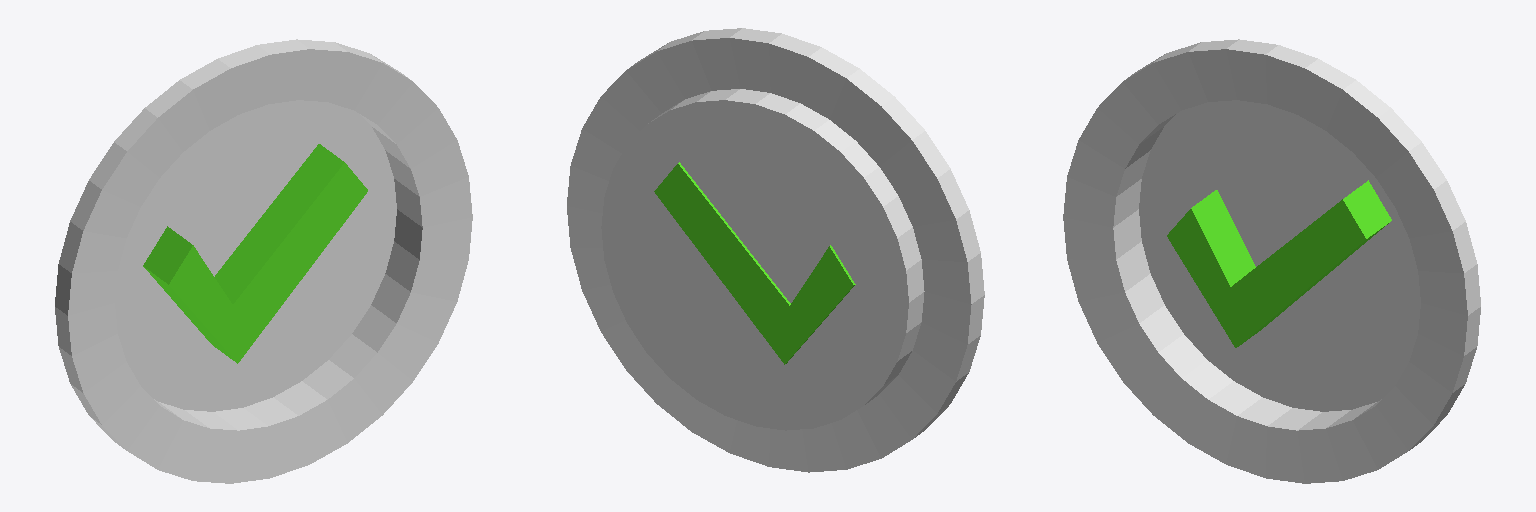
File: Checkbox.obj
The picture shows the model from 3 angles: view 1: azimuth 30°, elevation 25°; view 2: azimuth 150°, elevation 25°; view 3: azimuth 330°, elevation 25°; orthographic projection.
Visible parts, largest first — view 1: circle, checkmark; view 2: circle, checkmark; view 3: circle, checkmark.
Boxes of the visible parts, box(x1,y1,x2,y2) form: circle: box(55, 39, 472, 483); checkmark: box(143, 144, 367, 363); circle: box(567, 28, 984, 472); checkmark: box(654, 162, 855, 364); circle: box(1063, 39, 1480, 483); checkmark: box(1167, 180, 1391, 347).
Bounding box in the file's own units: 0.1844 × 0.1844 × 0.0227.